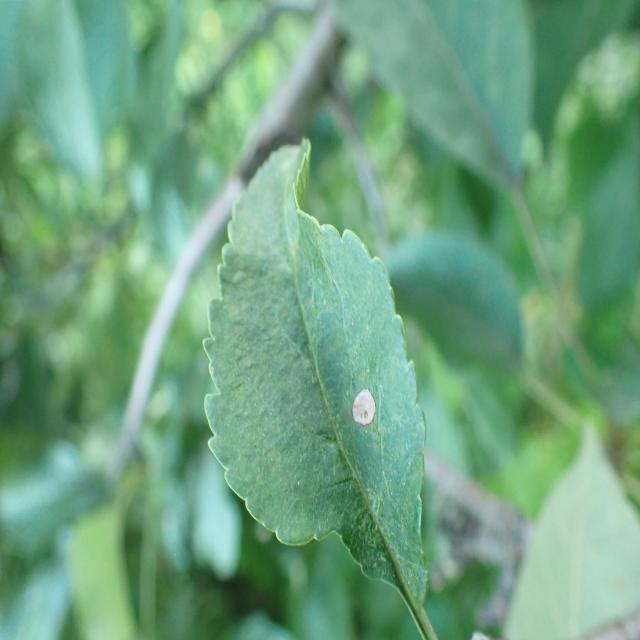Black Rot: (343, 348, 381, 448)
